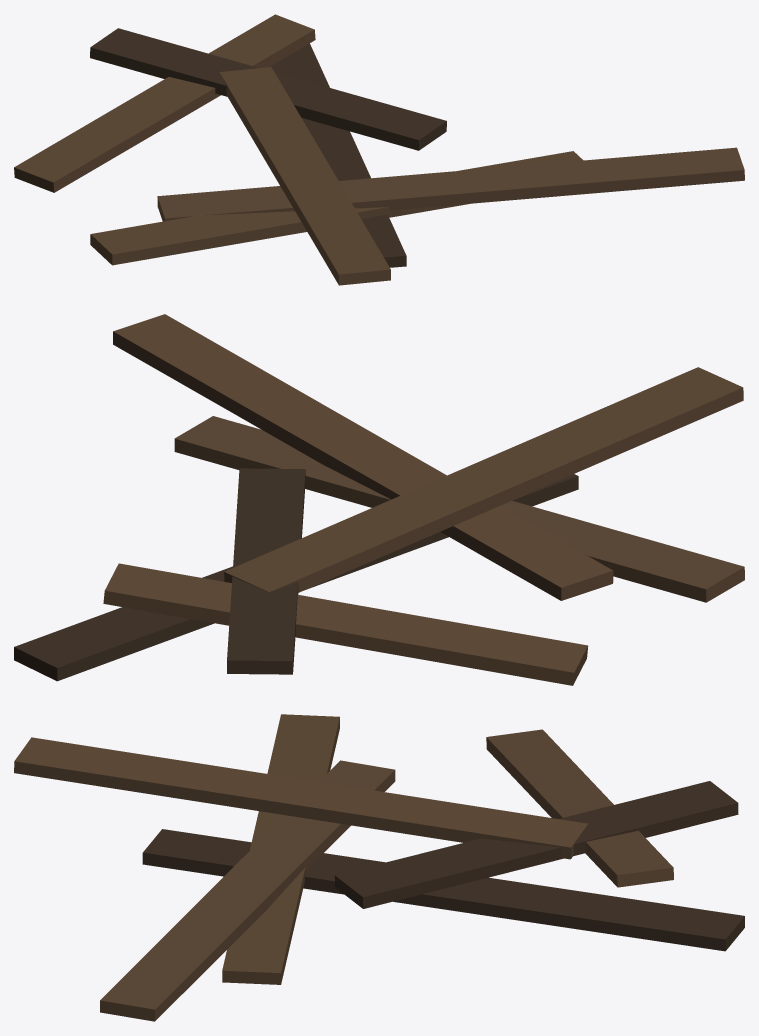
File: Debris_Planks.fbx
3 renders of one model, top to bottom at view 1: azimuth 30°, elevation 25°; view 2: azimuth 150°, elevation 25°; view 3: azimuth 270°, elevation 25°, orthographic. The views are drawn at different scales.
Visible parts, largest first — view 1: Debris_Planks; view 2: Debris_Planks; view 3: Debris_Planks.
Part boxes in pixels (box(x1,y1,x2,y2)): Debris_Planks: box(14, 14, 744, 285); Debris_Planks: box(14, 314, 744, 685); Debris_Planks: box(14, 714, 744, 1021).
Bounding box in the file's own units: 2.21 × 0.2177 × 2.22.
